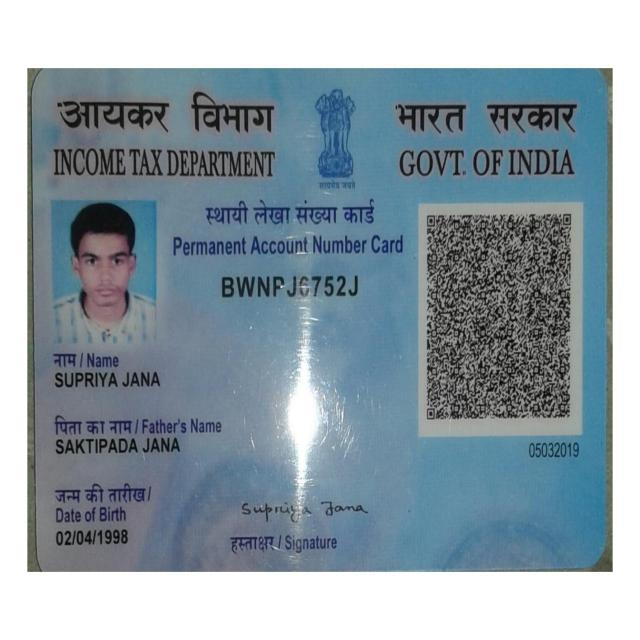pan_card: (36, 73, 602, 569)
